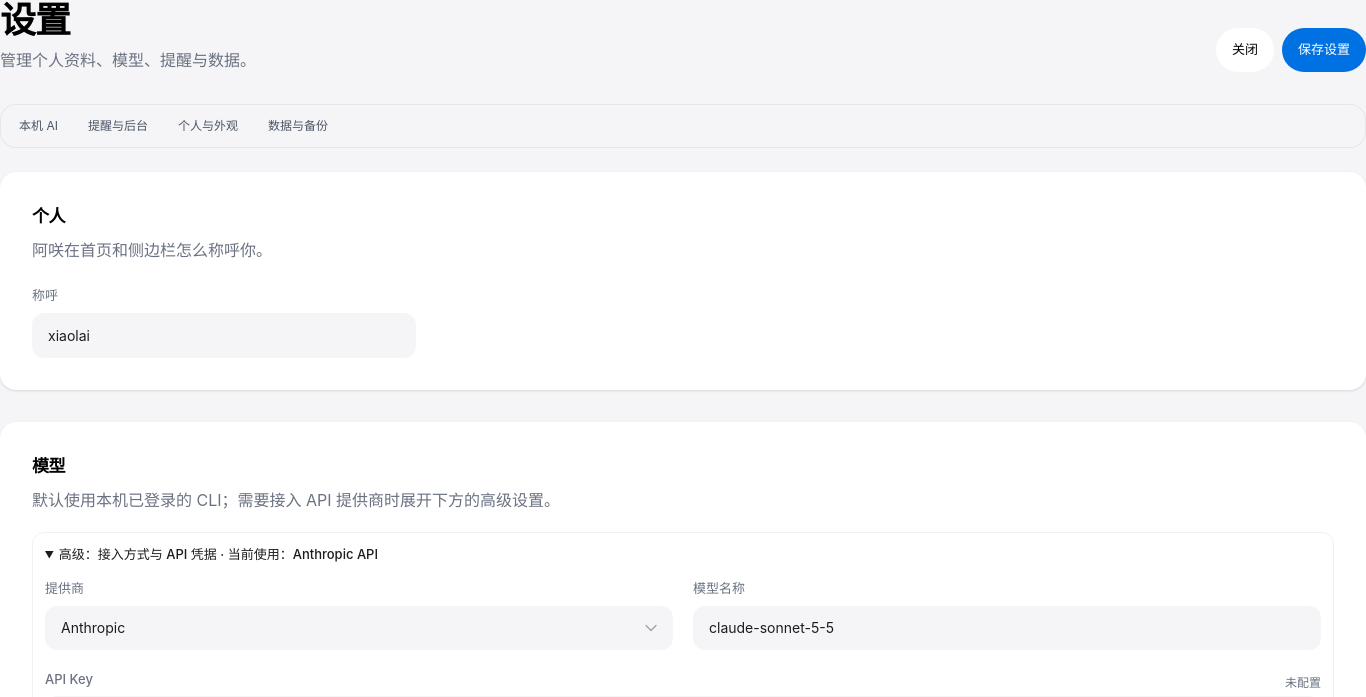
Test: clears a previous saved status and validates the model
Check: the field labelled "模型名称" is shown, box [693,606,1321,650]
Step 1. Click the button "保存设置" → (1324, 50), box [1282,28,1365,72]
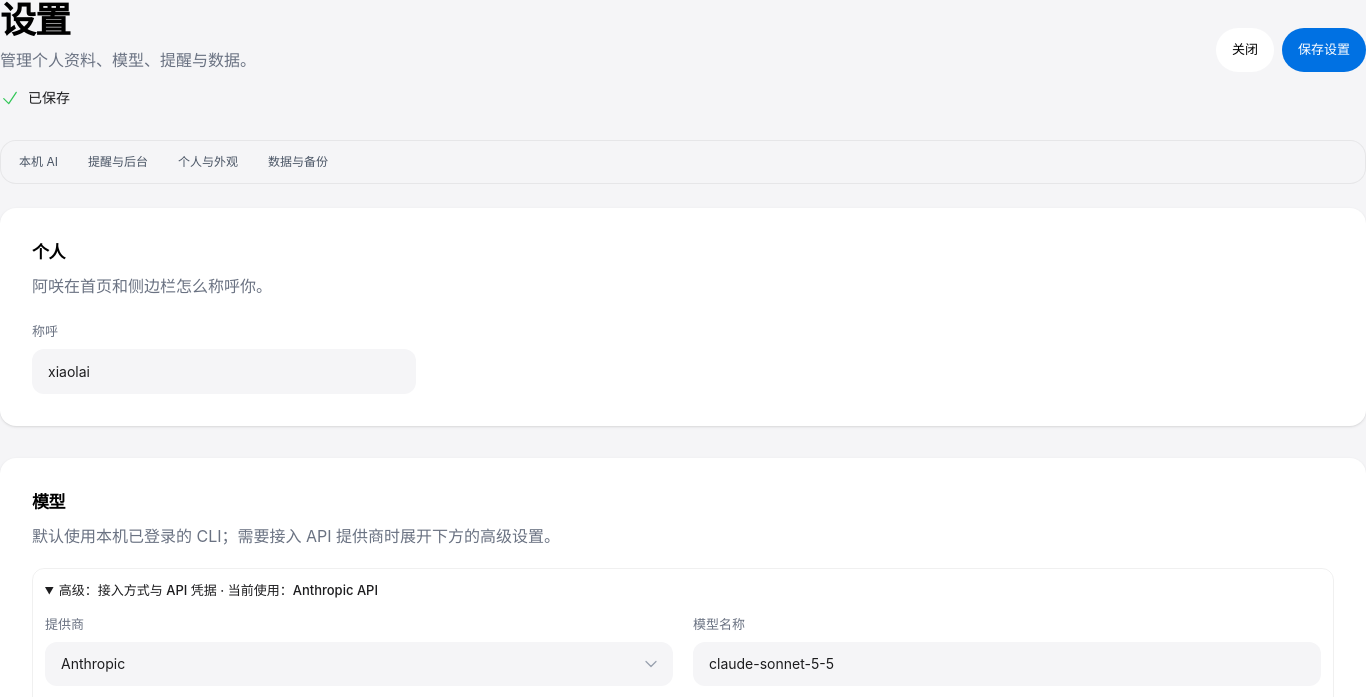
Check: the message reads "已保存", box [28,89,70,106]
Step 2. Clear the field labelled "模型名称" → (1007, 664), box [693,642,1321,686]
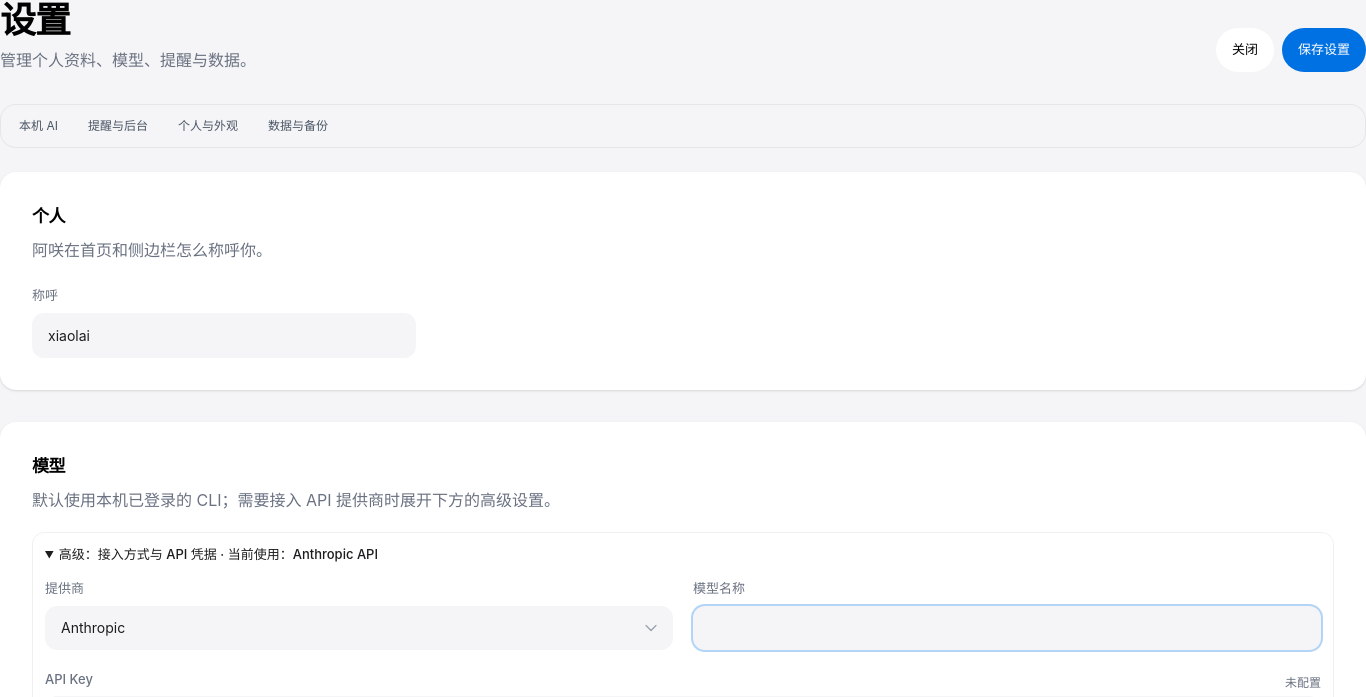
Step 3. Click the button "保存设置" → (1324, 50), box [1282,28,1365,72]
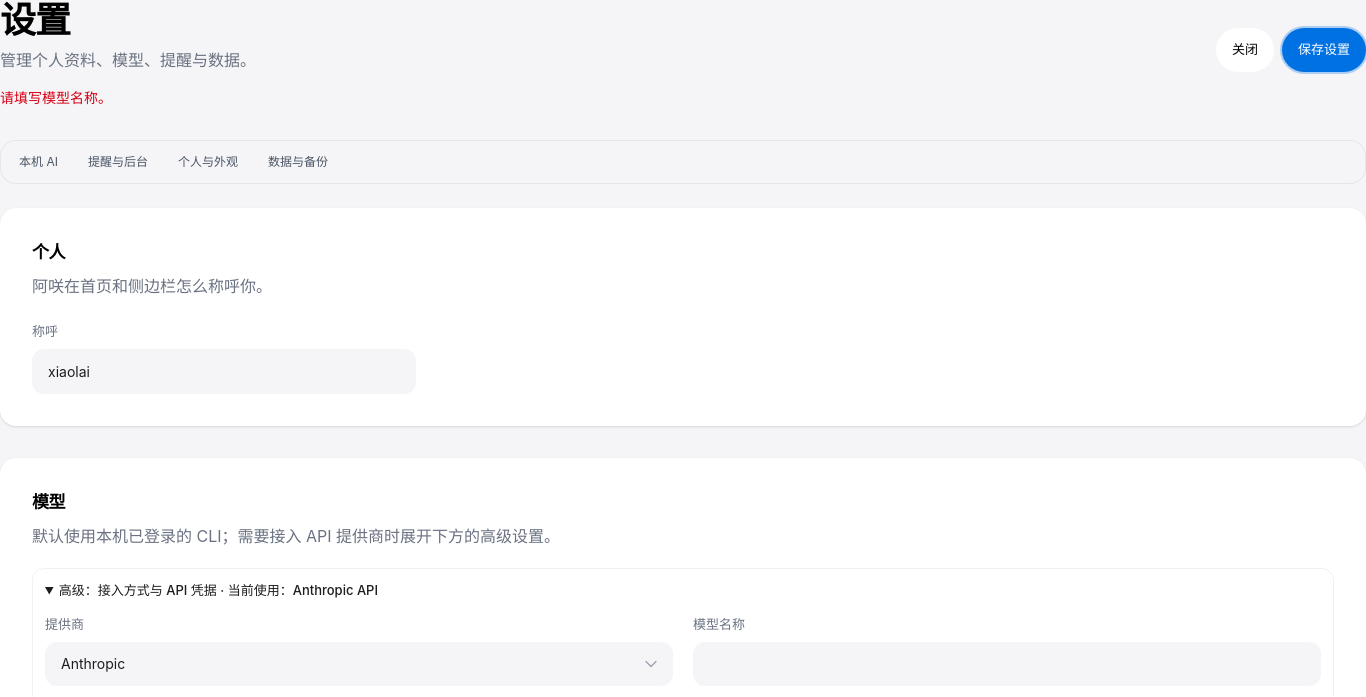
Check: the message shows "请填写模型名称", box [0,89,112,106]
